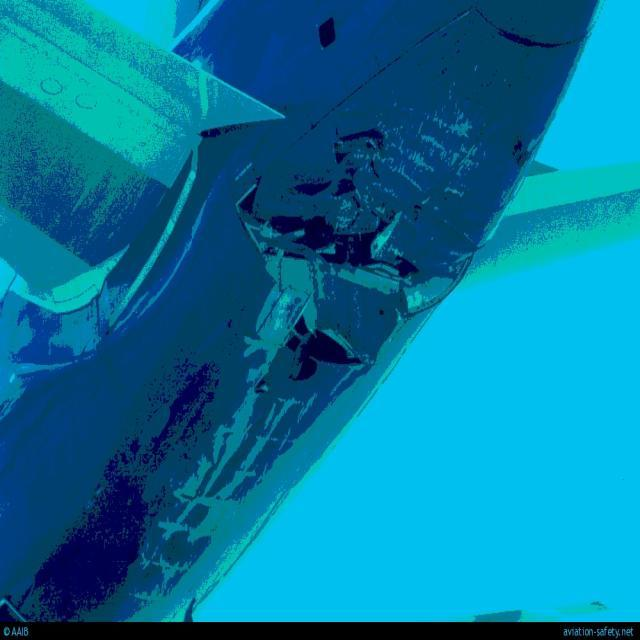crack: (236, 176, 424, 282)
